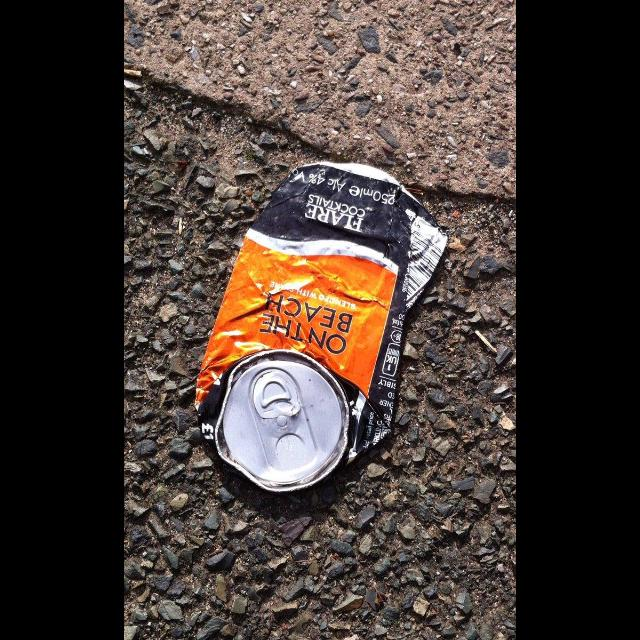aba de lata: (252, 372, 300, 420)
lata: (194, 160, 446, 496)
